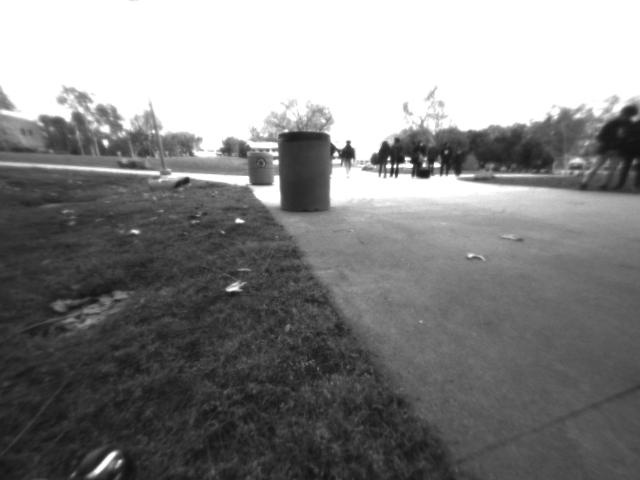trashcan: (276, 125, 330, 211), (251, 151, 275, 188)
